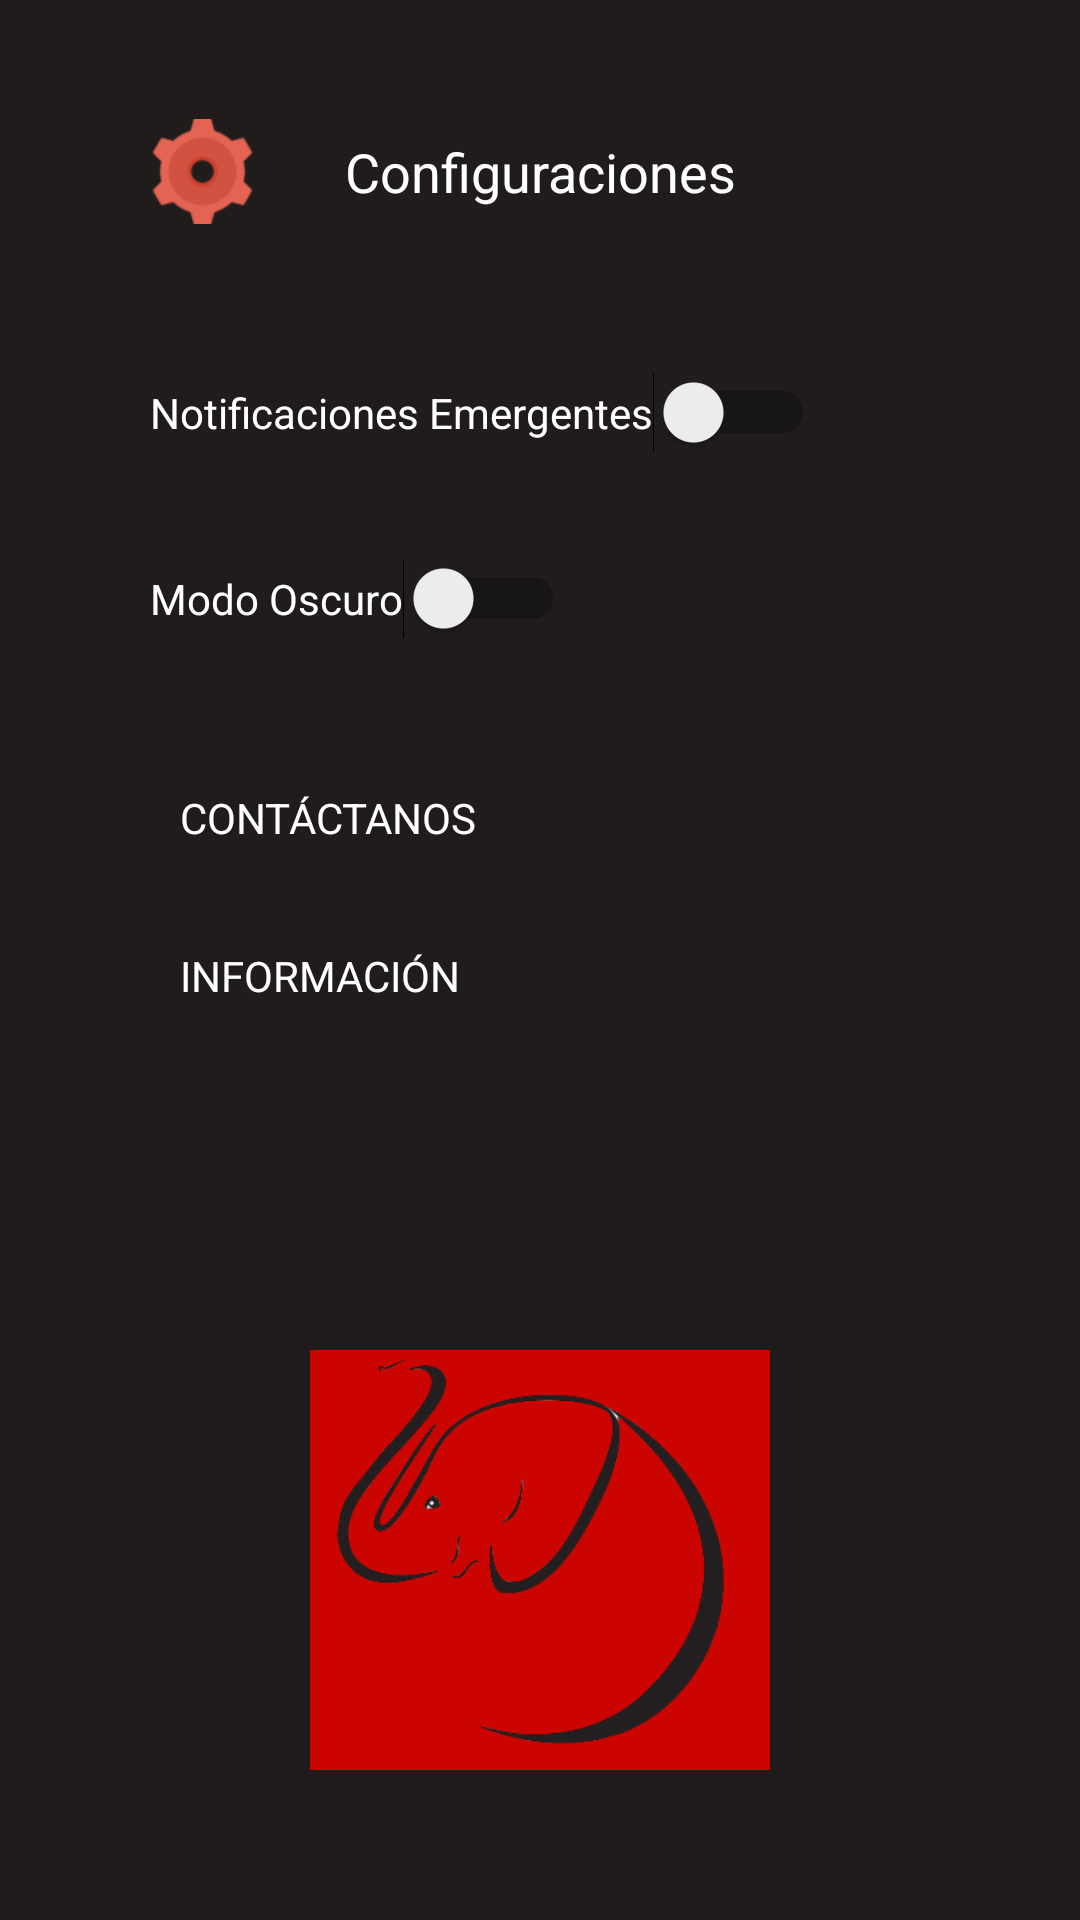

Where to tap for icons on this 1080px x 1920px app screen, as (x=x, y=y):
settings: (x=202, y=171)
